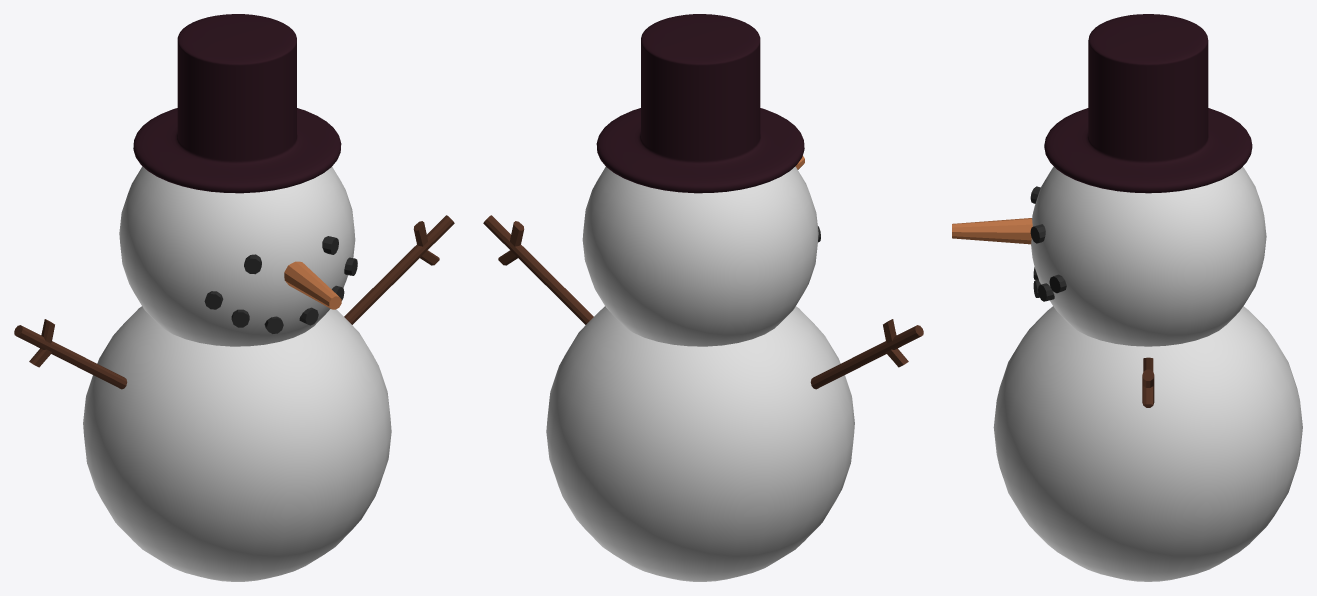
Rendered from jam3snowman.fbx.
The picture shows the model from 3 angles, left to right: view 1: azimuth 30°, elevation 25°; view 2: azimuth 150°, elevation 25°; view 3: azimuth 270°, elevation 25°; orthographic projection.
Parts seen in each view (by area): view 1: Cylinder; view 2: Cylinder; view 3: Cylinder.
Boxes of the visible parts, <box> form: Cylinder: <box>14,14,454,581</box>; Cylinder: <box>483,14,923,581</box>; Cylinder: <box>952,14,1302,581</box>.
Size of the model in its own units: 327 by 379 by 227.
